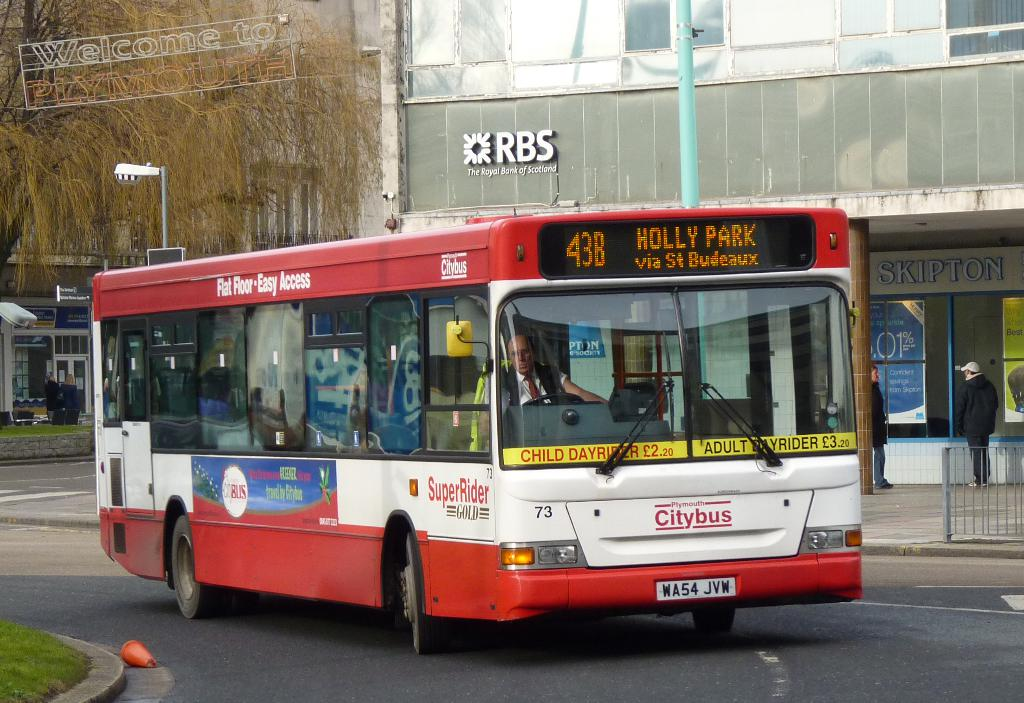Bus: (90, 206, 864, 653)
